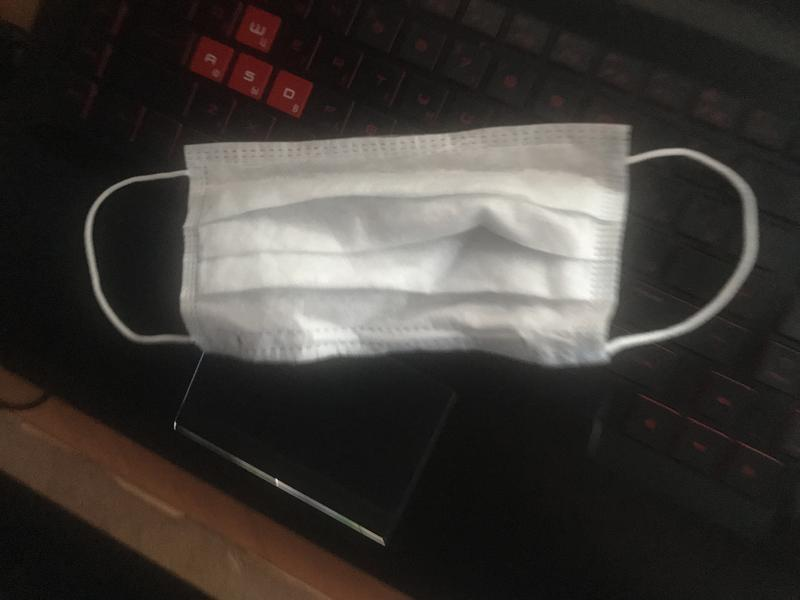medical_mask: (82, 122, 759, 366)
